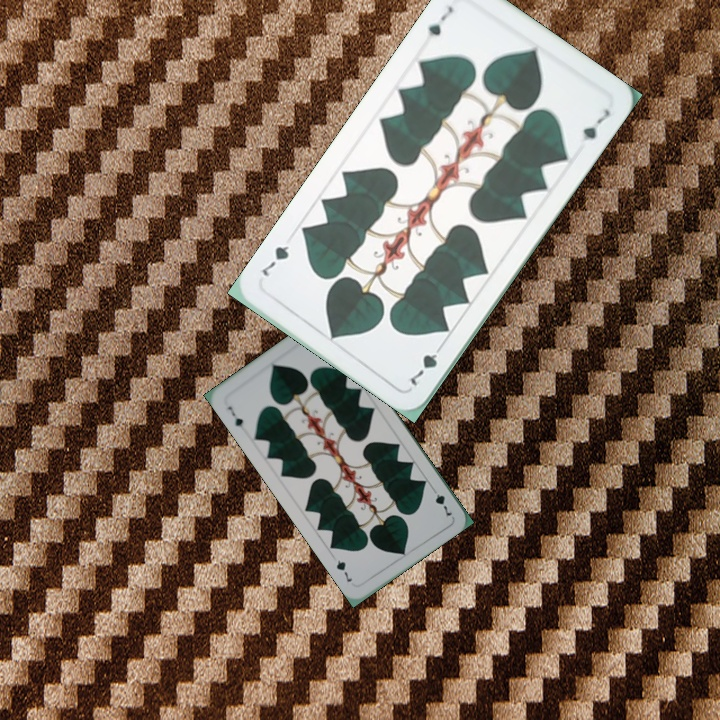G7: (406, 339, 445, 389), (424, 1, 456, 39), (427, 483, 455, 520), (223, 402, 246, 430)
